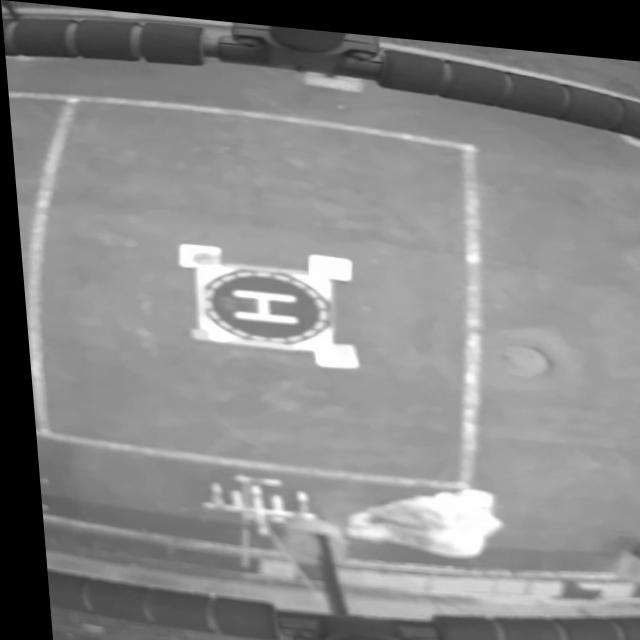Helipad: (228, 285, 294, 320)
